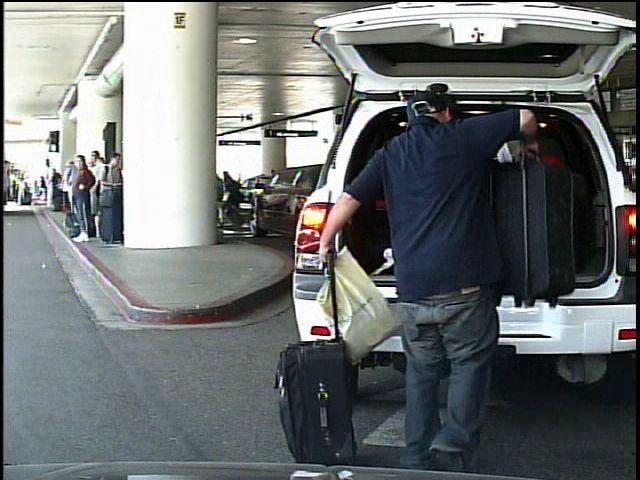person: (323, 89, 544, 473), (222, 166, 243, 232), (36, 173, 48, 202), (18, 176, 28, 206)
